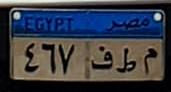4: (22, 41, 39, 73)
6: (42, 43, 56, 74)
7: (57, 42, 78, 75)
Taa: (116, 44, 137, 76)
faa: (90, 45, 113, 71)
meem: (139, 44, 159, 76)
